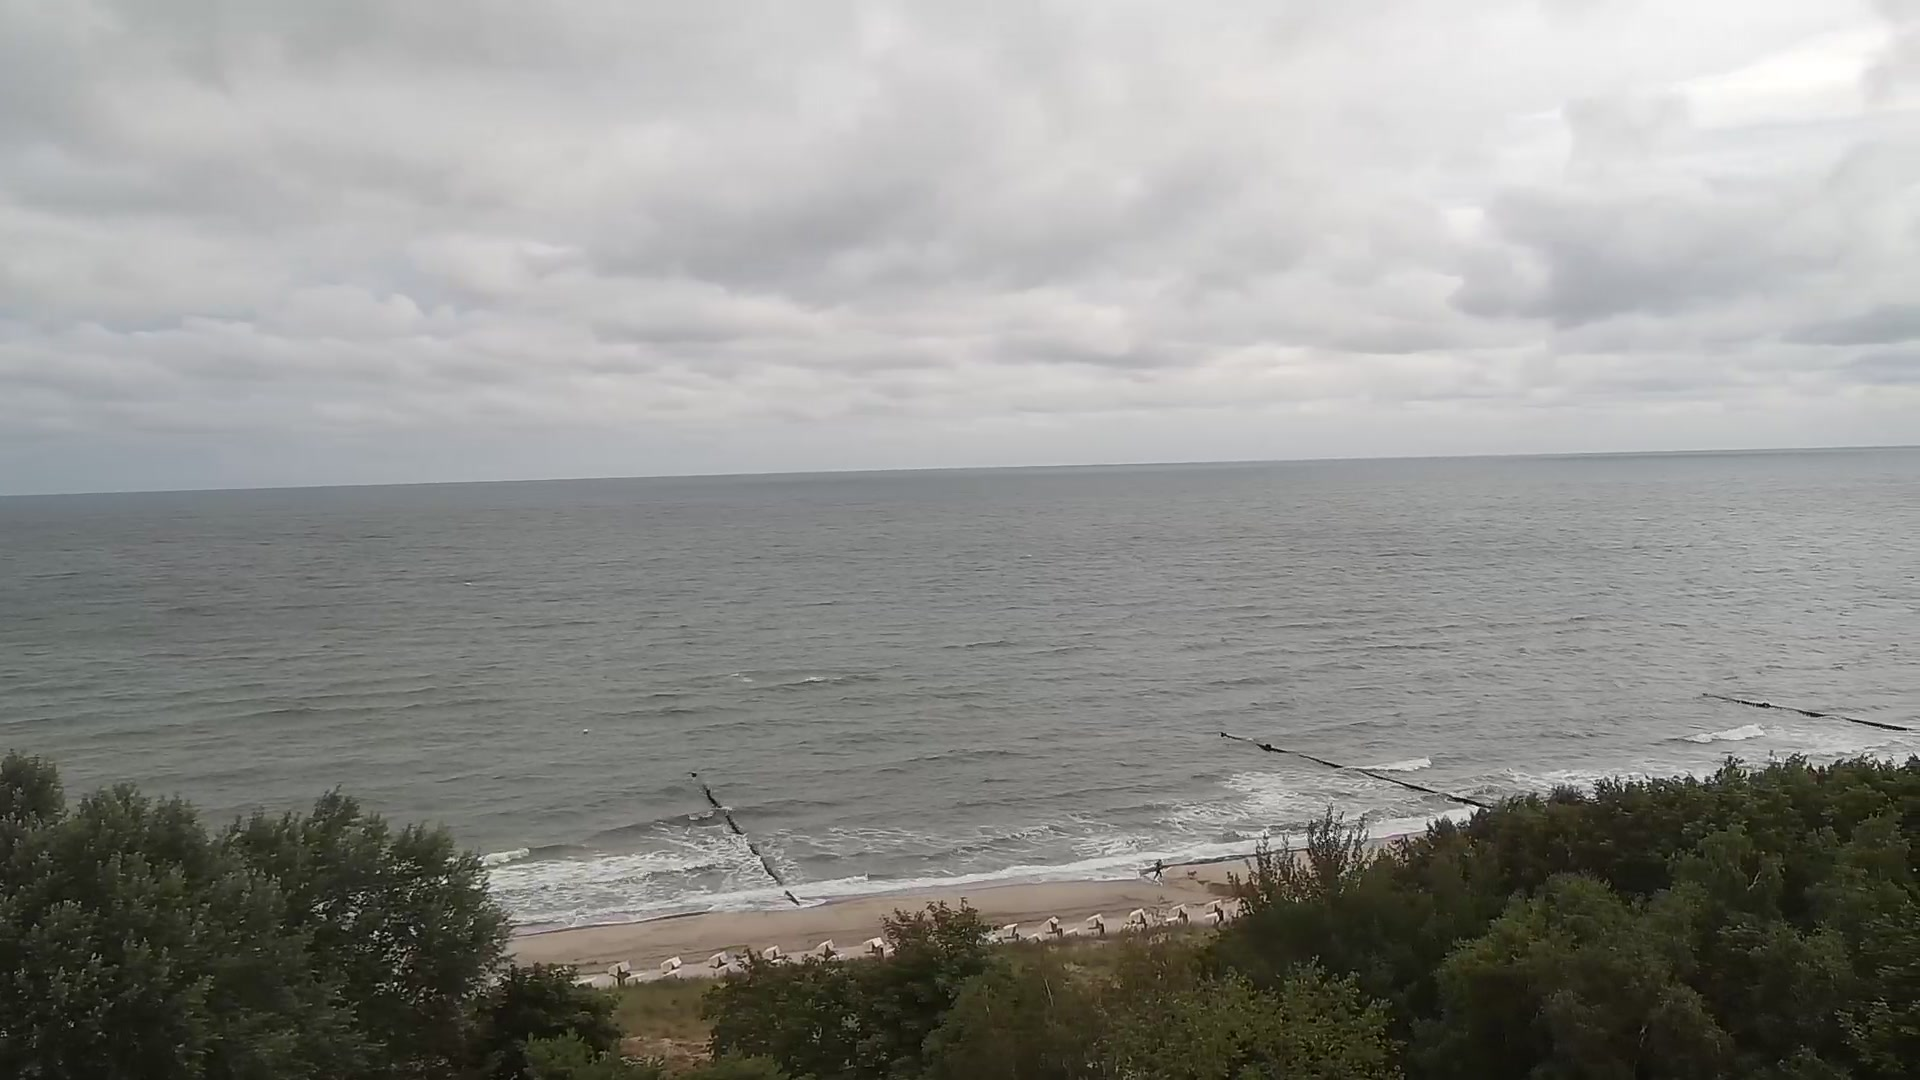human: (1154, 857, 1163, 882)
